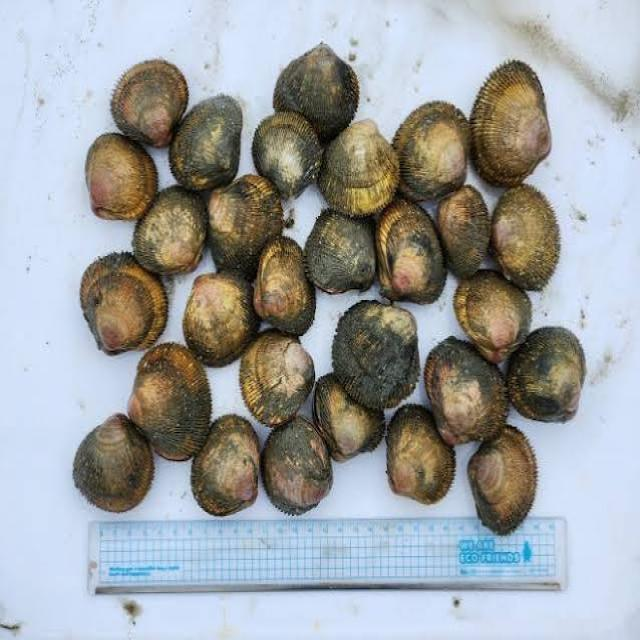egg_cockle: (459, 53, 558, 190), (328, 290, 426, 414), (74, 236, 168, 364), (486, 160, 570, 302), (497, 313, 587, 439), (125, 337, 216, 461), (382, 91, 477, 209), (66, 408, 162, 524), (368, 181, 452, 313), (422, 332, 512, 453), (267, 37, 366, 145), (204, 171, 292, 292), (316, 102, 404, 221), (191, 394, 264, 534), (380, 389, 462, 513), (470, 415, 546, 547), (255, 400, 332, 530), (236, 316, 319, 434), (126, 175, 214, 284), (305, 363, 394, 470), (164, 84, 247, 197), (179, 260, 265, 368), (241, 110, 332, 208), (451, 260, 539, 360), (241, 226, 318, 334), (109, 54, 192, 154), (83, 125, 162, 227), (306, 200, 378, 311), (430, 172, 494, 293)
